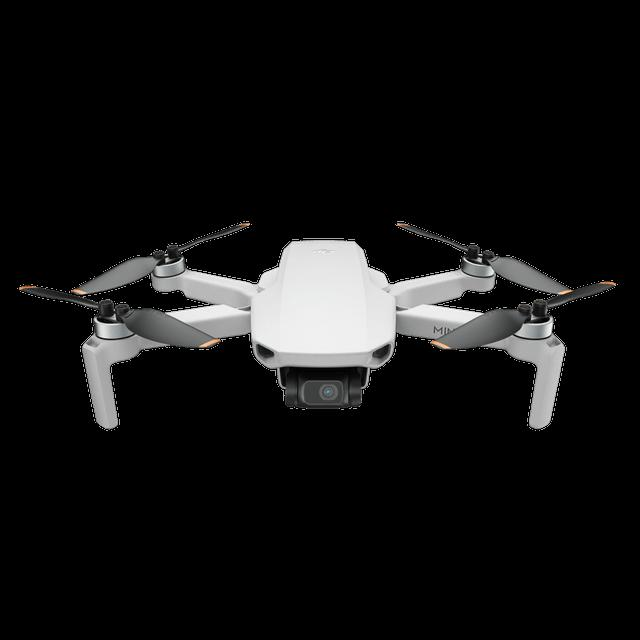drone_other: (14, 214, 621, 430)
